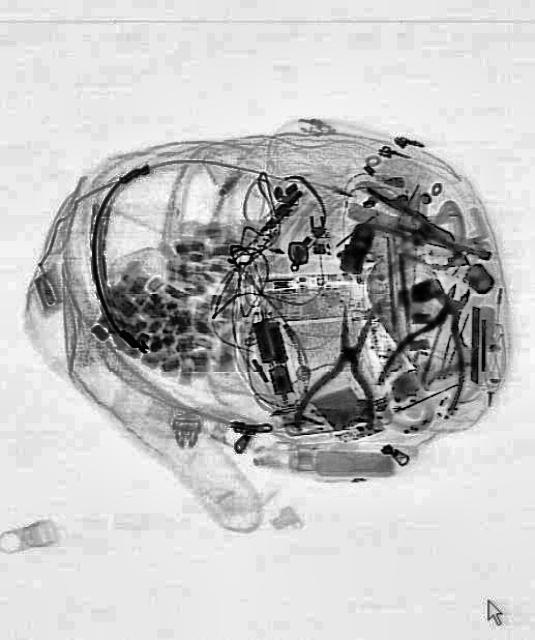Pliers: (374, 262, 498, 416), (292, 299, 390, 439), (353, 185, 461, 259)
